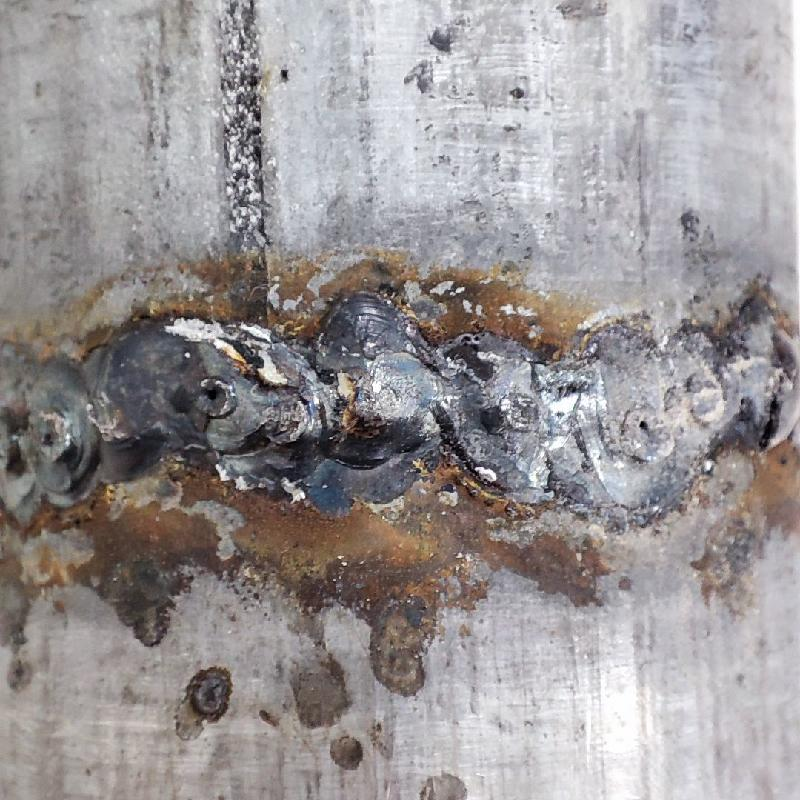Not_fully_soldered: (458, 331, 799, 509)
Surface_pores: (610, 399, 673, 461), (192, 371, 234, 420)
wrong_size: (3, 331, 457, 501)
